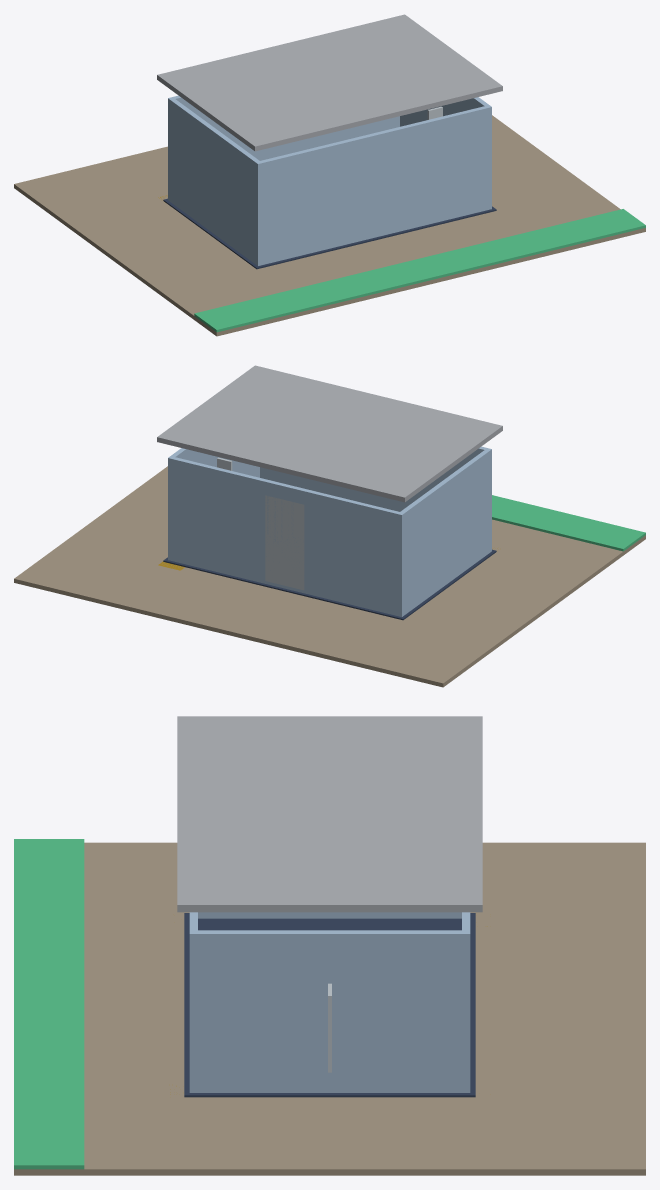
The model's file is stage_11_finishing.glb.
3 views of the same model, one above another, from view 1: azimuth 30°, elevation 25°; view 2: azimuth 150°, elevation 25°; view 3: azimuth 270°, elevation 25° (orthographic). The views are drawn at different scales.
Visible parts, largest first — view 1: world; view 2: world; view 3: world.
Boxes of the visible parts, x1=… form: world: x1=14, y1=14, x2=645, y2=336; world: x1=14, y1=365, x2=645, y2=687; world: x1=14, y1=716, x2=645, y2=1175.
Size of the model in its own units: 11 by 3.87 by 9.
